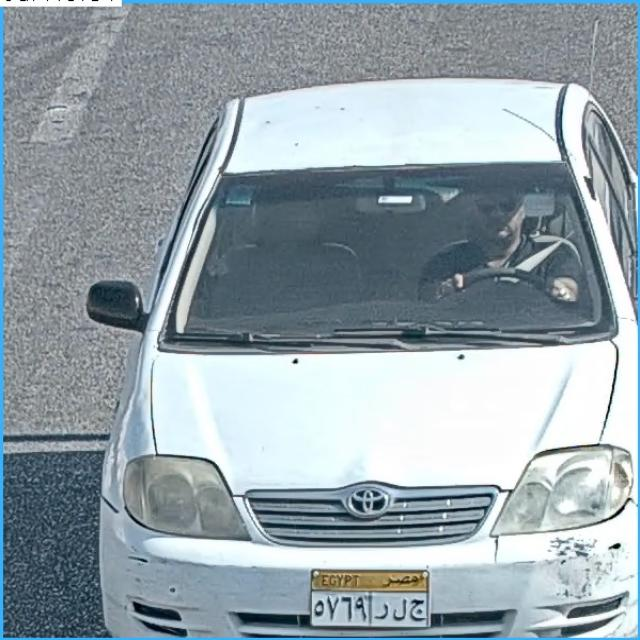windshield: (178, 174, 612, 333)
